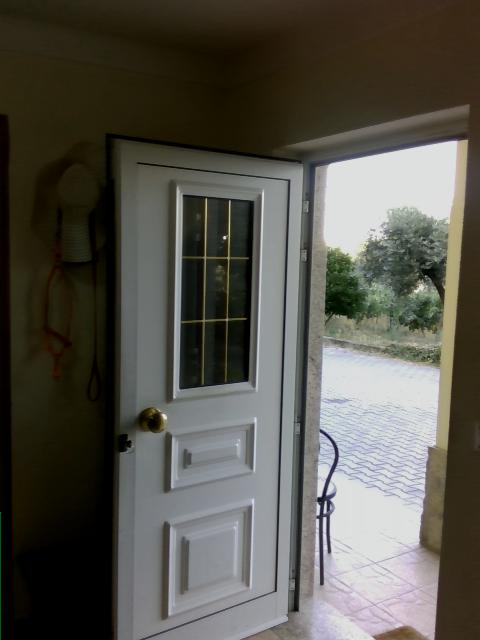open_door: (290, 103, 471, 633)
